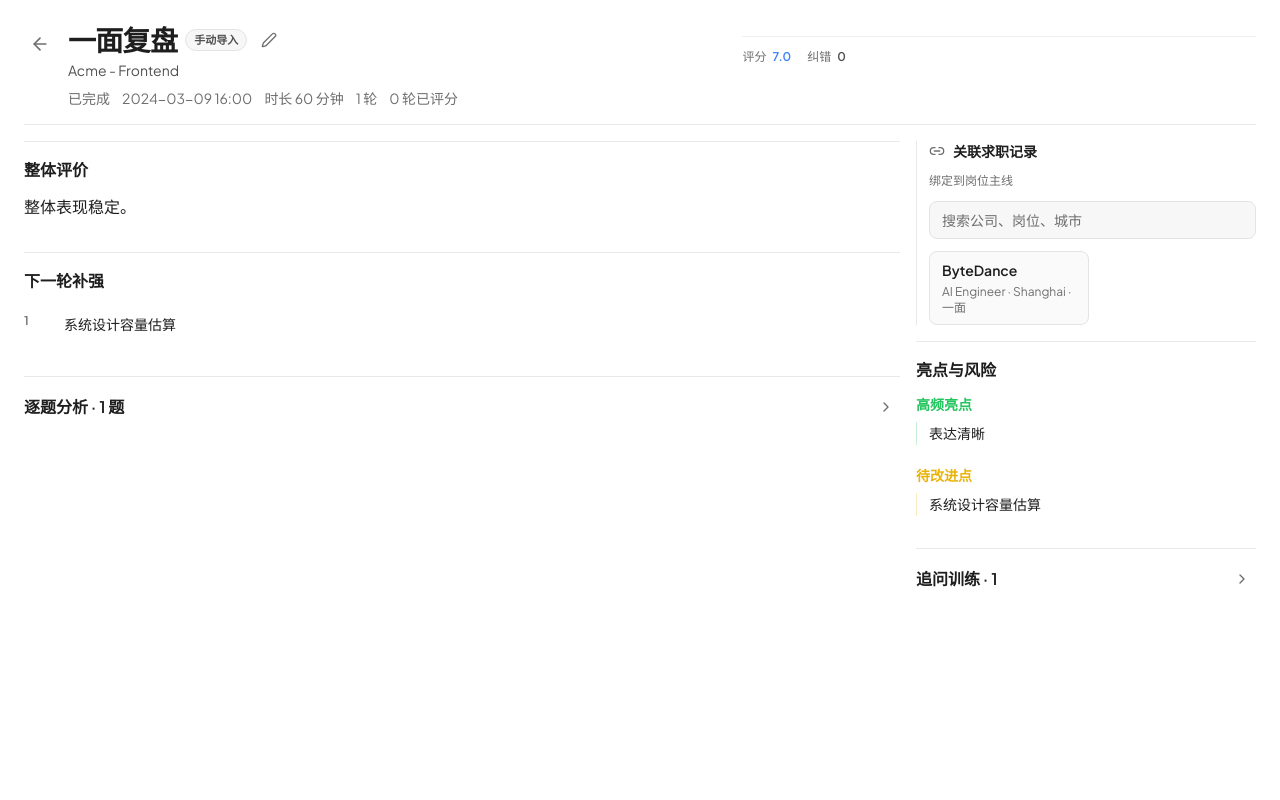
it: ReviewSessionDetail › shows per-turn practice evidence in turn details
expect the heading "逐题分析 · 1 题" is shown: met, box [24,395,124,419]
What coordinates should you click on to do the following:
click the button "逐题分析 · 1 题"
I would click on:
 (74, 406)
Its box is [24,381,900,433].
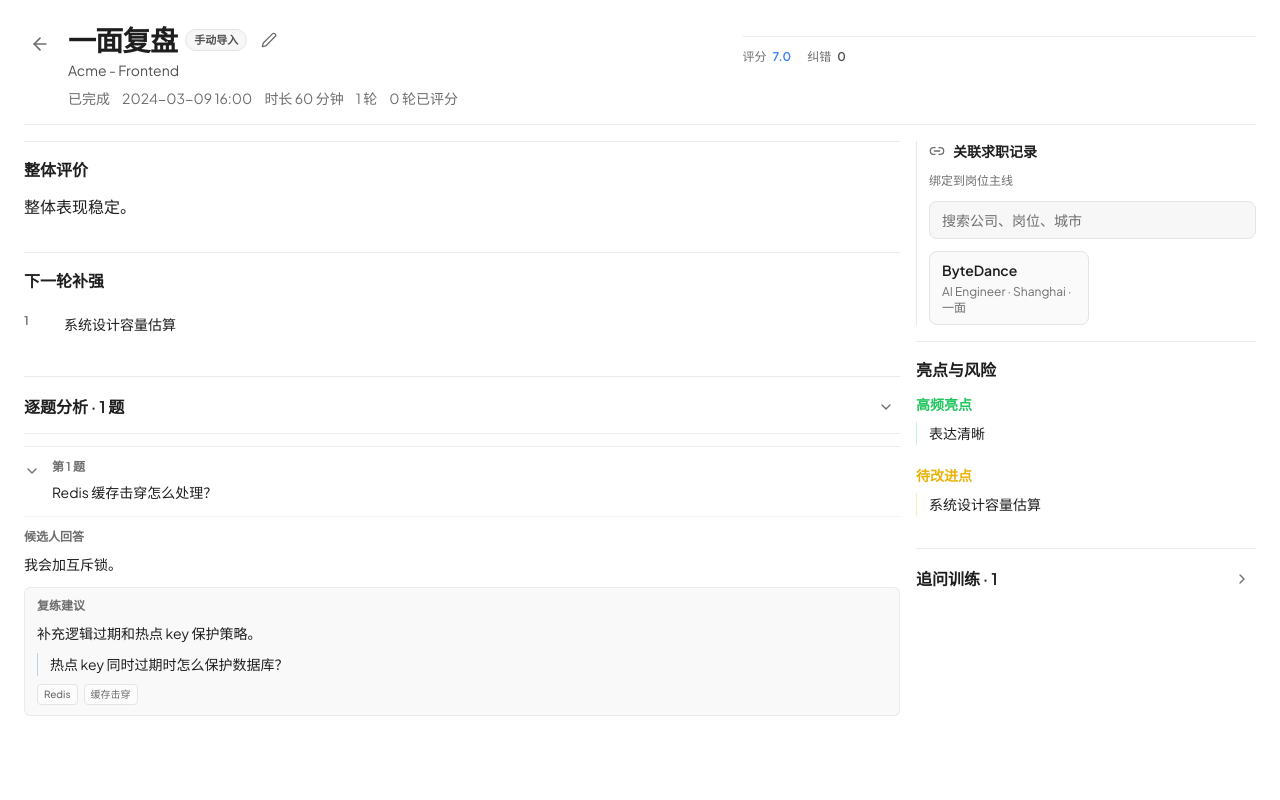
expect the text "Redis 缓存击穿怎么处理？" is shown: met, box [52,483,217,501]
expect the heading "复练建议" is shown: met, box [37,598,85,613]
expect the text "补充逻辑过期和热点 key 保护策略。" is shown: met, box [37,624,261,642]
